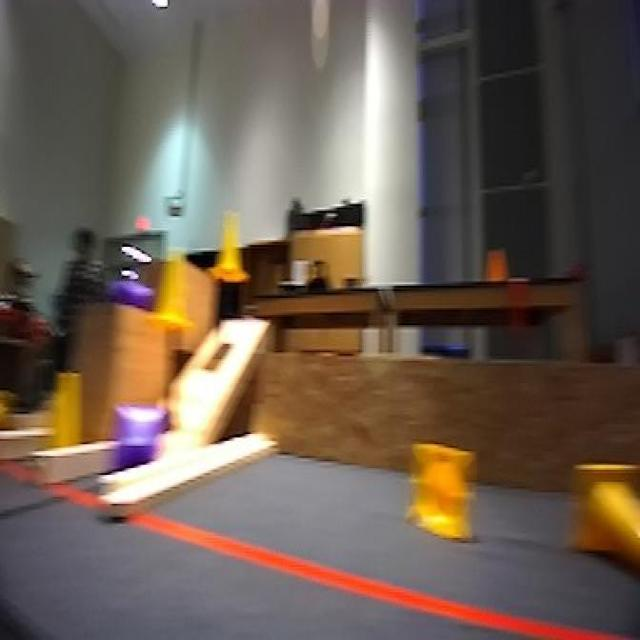frc_cone: (406, 439, 484, 548), (565, 465, 640, 572), (35, 368, 89, 480), (154, 228, 196, 337), (219, 218, 243, 294), (0, 383, 13, 442)
frc_cube: (107, 408, 153, 492), (95, 272, 155, 310)
